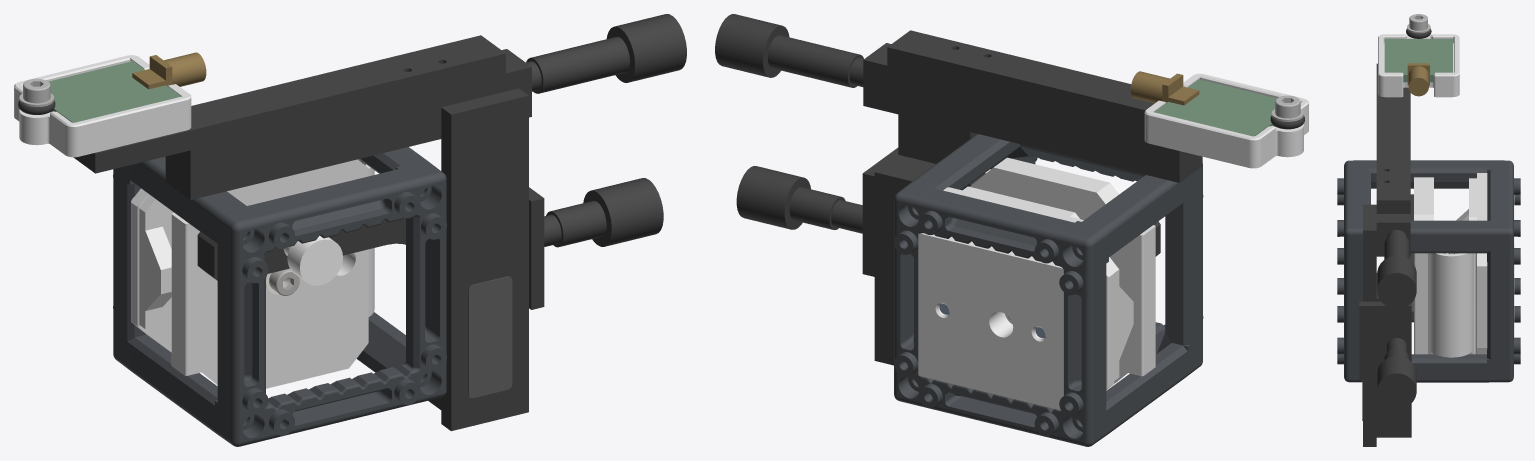
The model's file is ASS_-_3005_-_CUBMANXYST04DIA_-_C.glb.
3 renders of one model, left to right at view 1: azimuth 30°, elevation 25°; view 2: azimuth 150°, elevation 25°; view 3: azimuth 270°, elevation 25°, orthographic. The views are drawn at different scales.
Visible parts, largest first — view 1: BUY - Microscope XY stage - type 04 --- X stage:1, PRT - 1003 - CUBHLF111 - V04:2, PRT - 3014 - UPPCLPPCE - V04 - C:1, BUY - Microscope XY stage - type 04 --- Y stage:1, BUY - Microscope XY stage - type 04 --- Base:1, PRT - 1003 - CUBHLF111 - V04:1, PRT - 3007 - DIABRDHOL - C:1, BRD - Diamands board with HF antenna:1, PRT - 5005 - STKCAUHNDCRU25x10:1; view 2: PRT - 1003 - CUBHLF111 - V04:1, BUY - Microscope XY stage - type 04 --- X stage:1, PRT - 3015 - LOWCLPPCE - V04 - C:1, PRT - 3014 - UPPCLPPCE - V04 - C:1, BUY - Microscope XY stage - type 04 --- Base:1, PRT - 1003 - CUBHLF111 - V04:2, BUY - Microscope XY stage - type 04 --- Y stage:1, PRT - 3007 - DIABRDHOL - C:1, BRD - Diamands board with HF antenna:1; view 3: PRT - 1003 - CUBHLF111 - V04:1, PRT - 3014 - UPPCLPPCE - V04 - C:1, PRT - 1003 - CUBHLF111 - V04:2, BUY - Microscope XY stage - type 04 --- Base:1, BUY - Microscope XY stage - type 04 --- X stage:1, BUY - Microscope XY stage - type 04 --- Y stage:1, BRD - Diamands board with HF antenna:1, PRT - 3007 - DIABRDHOL - C:1, ISO 4762 - Hex socket head cap screw - M3 x 8 - A2-50:1.
Part boxes in pixels (x1,y1,x2,y2): BUY - Microscope XY stage - type 04 --- X stage:1: (165, 14, 686, 431); PRT - 1003 - CUBHLF111 - V04:2: (130, 156, 446, 446); PRT - 3014 - UPPCLPPCE - V04 - C:1: (131, 159, 374, 388); BUY - Microscope XY stage - type 04 --- Y stage:1: (73, 35, 505, 173); BUY - Microscope XY stage - type 04 --- Base:1: (197, 178, 663, 409); PRT - 1003 - CUBHLF111 - V04:1: (113, 147, 426, 433); PRT - 3007 - DIABRDHOL - C:1: (14, 55, 191, 157); BRD - Diamands board with HF antenna:1: (49, 52, 206, 122); PRT - 5005 - STKCAUHNDCRU25x10:1: (468, 276, 512, 398); PRT - 1003 - CUBHLF111 - V04:1: (894, 134, 1187, 446); BUY - Microscope XY stage - type 04 --- X stage:1: (715, 14, 1202, 182); PRT - 3015 - LOWCLPPCE - V04 - C:1: (918, 233, 1063, 410); PRT - 3014 - UPPCLPPCE - V04 - C:1: (943, 157, 1155, 389); BUY - Microscope XY stage - type 04 --- Base:1: (736, 148, 1160, 365); PRT - 1003 - CUBHLF111 - V04:2: (915, 144, 1203, 383); BUY - Microscope XY stage - type 04 --- Y stage:1: (887, 30, 1154, 128); PRT - 3007 - DIABRDHOL - C:1: (1144, 73, 1308, 168); BRD - Diamands board with HF antenna:1: (1130, 71, 1276, 136); PRT - 1003 - CUBHLF111 - V04:1: (1410, 160, 1520, 382); PRT - 3014 - UPPCLPPCE - V04 - C:1: (1414, 173, 1487, 357); PRT - 1003 - CUBHLF111 - V04:2: (1337, 160, 1486, 382); BUY - Microscope XY stage - type 04 --- Base:1: (1359, 194, 1416, 437); BUY - Microscope XY stage - type 04 --- X stage:1: (1363, 204, 1416, 446); BUY - Microscope XY stage - type 04 --- Y stage:1: (1376, 63, 1410, 213); BRD - Diamands board with HF antenna:1: (1384, 39, 1452, 96); PRT - 3007 - DIABRDHOL - C:1: (1378, 34, 1459, 97); ISO 4762 - Hex socket head cap screw - M3 x 8 - A2-50:1: (1409, 14, 1427, 30).
Size of the model in its own units: 147 by 90.3 by 53.8.
